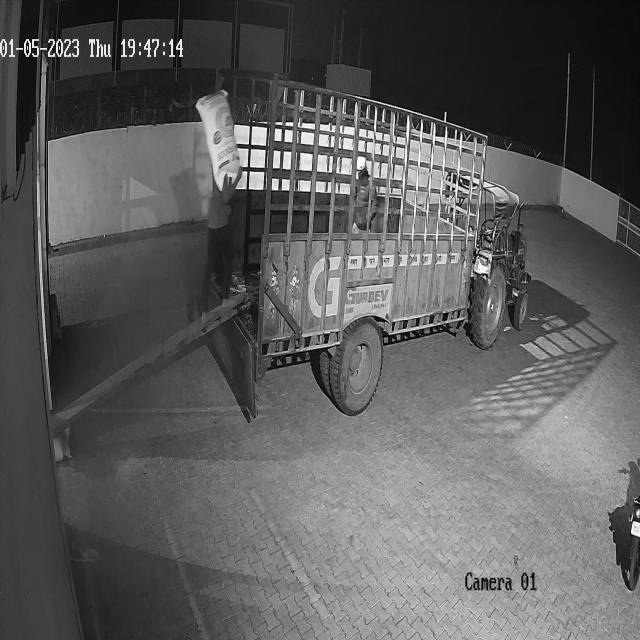sack: (195, 88, 241, 192)
